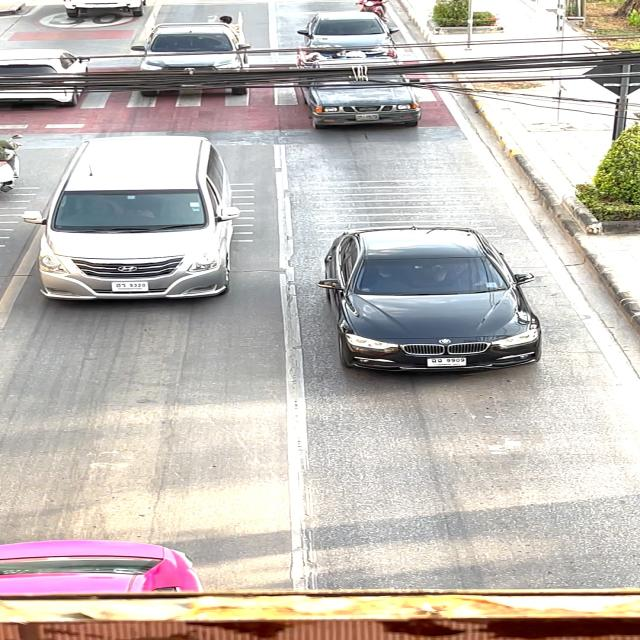car: (18, 122, 250, 322), (312, 215, 547, 392), (116, 6, 284, 108), (294, 47, 435, 130), (291, 2, 409, 70)
